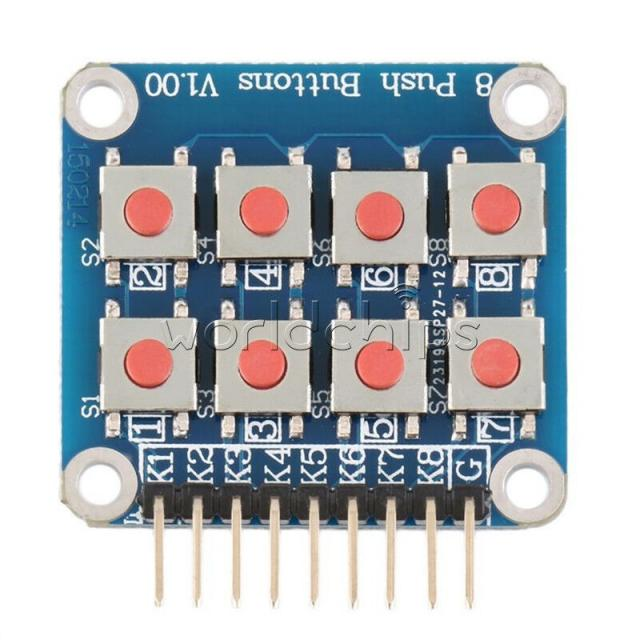2235: (93, 144, 200, 283), (215, 151, 317, 281), (325, 157, 427, 279), (443, 308, 543, 431), (447, 155, 549, 274), (328, 309, 426, 430), (212, 307, 308, 425), (100, 305, 192, 426)
connector -5v-: (138, 484, 492, 616)
